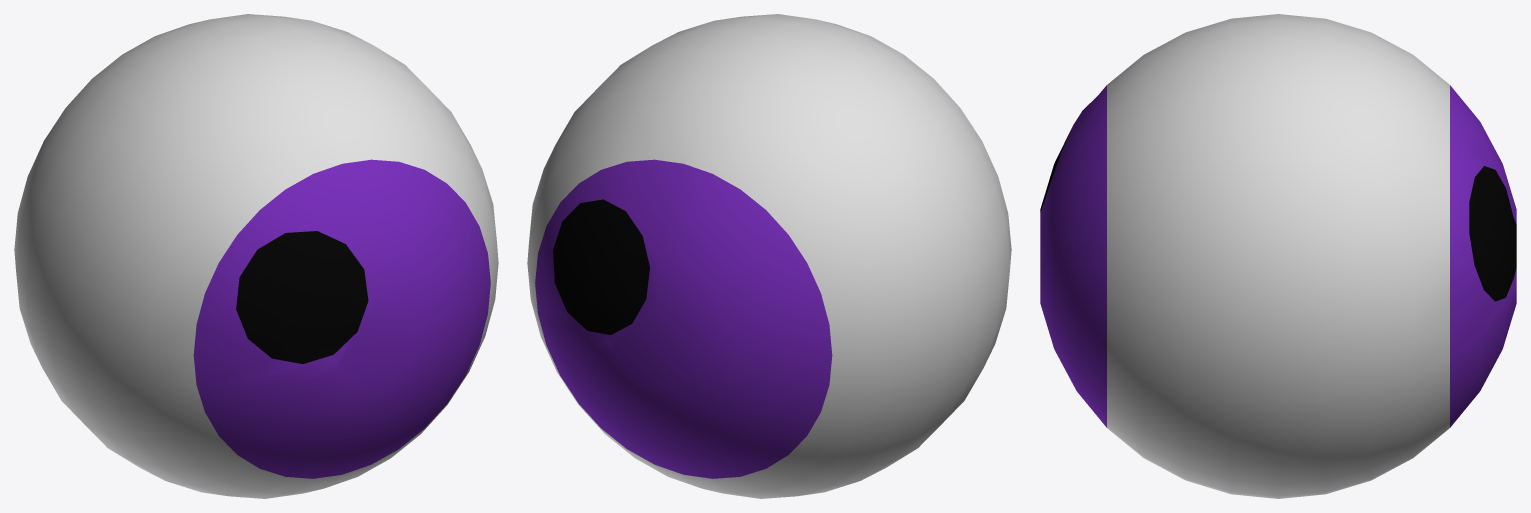
File: EyeAmmunition.fbx
3 views of the same model, side by side, from view 1: azimuth 30°, elevation 25°; view 2: azimuth 150°, elevation 25°; view 3: azimuth 270°, elevation 25° (orthographic).
Parts seen in each view (by area): view 1: Eye; view 2: Eye; view 3: Eye.
Part boxes in pixels (bbox=[...]): Eye: bbox=[14, 14, 498, 498]; Eye: bbox=[527, 14, 1011, 498]; Eye: bbox=[1040, 14, 1516, 498].
Bounding box in the file's own units: 15.66 × 15.66 × 15.36.
